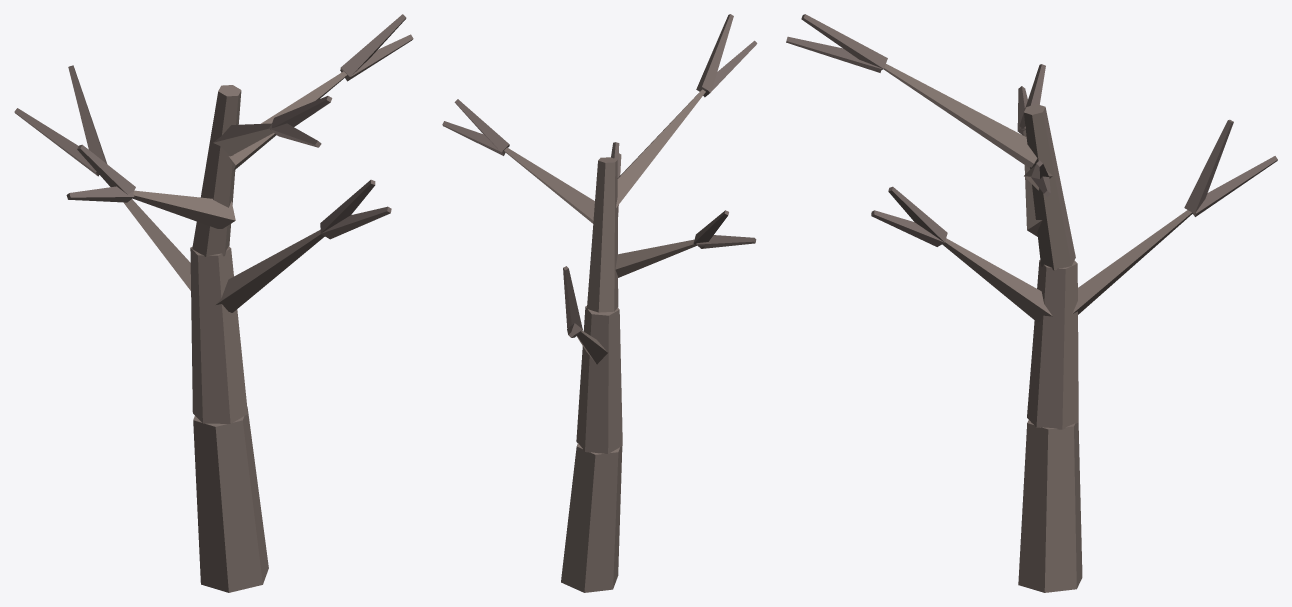
File: tree_dead_1.glb
3 views of the same model, side by side, from view 1: azimuth 30°, elevation 25°; view 2: azimuth 150°, elevation 25°; view 3: azimuth 270°, elevation 25° (orthographic). The views are drawn at different scales.
Visible parts, largest first — view 1: tronco, ramitas; view 2: tronco, ramitas; view 3: tronco, ramitas.
Boxes of the visible parts, left/top/right/bottom form: tronco: left=123, top=71, right=346, bottom=592; ramitas: left=14, top=14, right=413, bottom=239; tronco: left=504, top=89, right=705, bottom=592; ramitas: left=442, top=14, right=757, bottom=337; tronco: left=883, top=64, right=1192, bottom=592; ramitas: left=786, top=14, right=1277, bottom=246.
Bounding box in the file's own units: 1.7 × 2.67 × 2.15.
